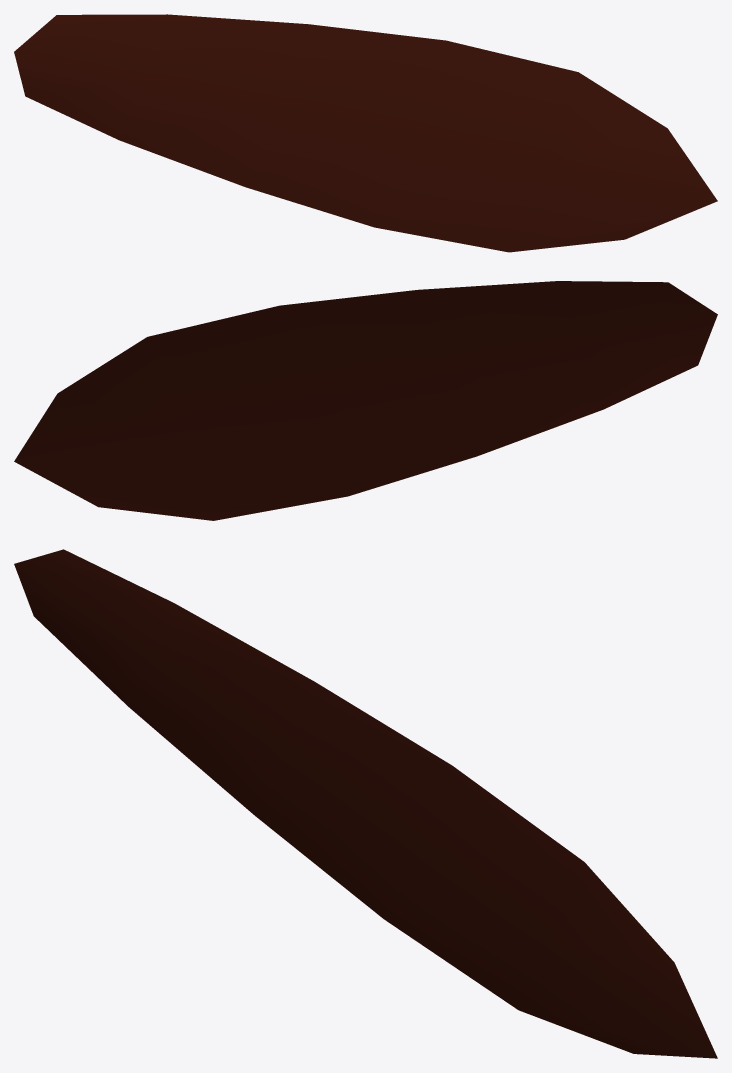
Rendered from pheasant_feather_flight_secondary_020.obj.
The picture shows the model from 3 angles, top to bottom: view 1: azimuth 30°, elevation 25°; view 2: azimuth 150°, elevation 25°; view 3: azimuth 330°, elevation 25°; orthographic projection.
Visible parts, largest first — view 1: feather_flight_secondary_020; view 2: feather_flight_secondary_020; view 3: feather_flight_secondary_020.
Part boxes in pixels (bbox=[...]): feather_flight_secondary_020: bbox=[14, 14, 717, 252]; feather_flight_secondary_020: bbox=[14, 281, 717, 520]; feather_flight_secondary_020: bbox=[14, 549, 717, 1058].
Size of the model in its own units: 0.0668 by 0.033 by 0.00103.
